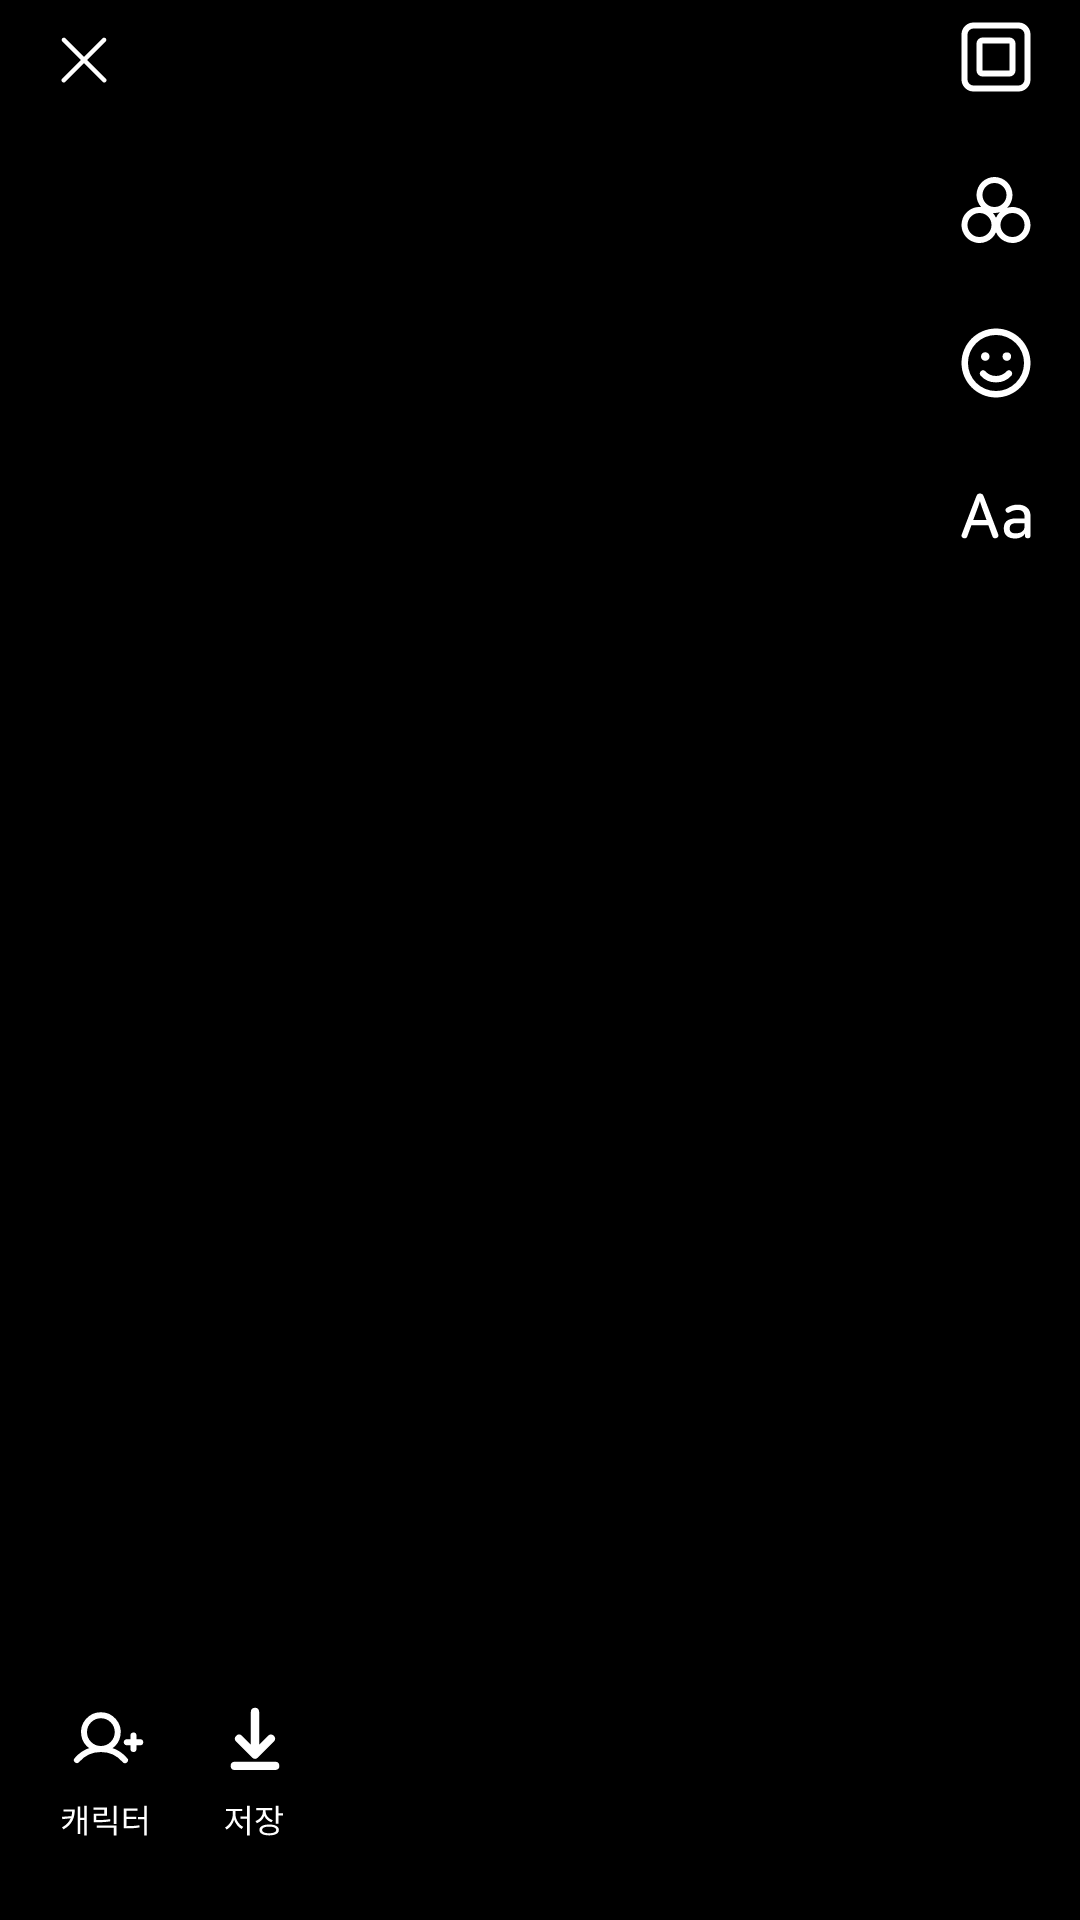

Icon bounding boxes for this 1080x1920 phone screenshot, format (left=x1, top=y1, right=x2, bottom=y2):
alphabet: (left=961, top=493, right=1031, bottom=539)
circle: (left=961, top=177, right=1031, bottom=243)
double square: (left=961, top=22, right=1031, bottom=92)
smile: (left=961, top=328, right=1031, bottom=398)
